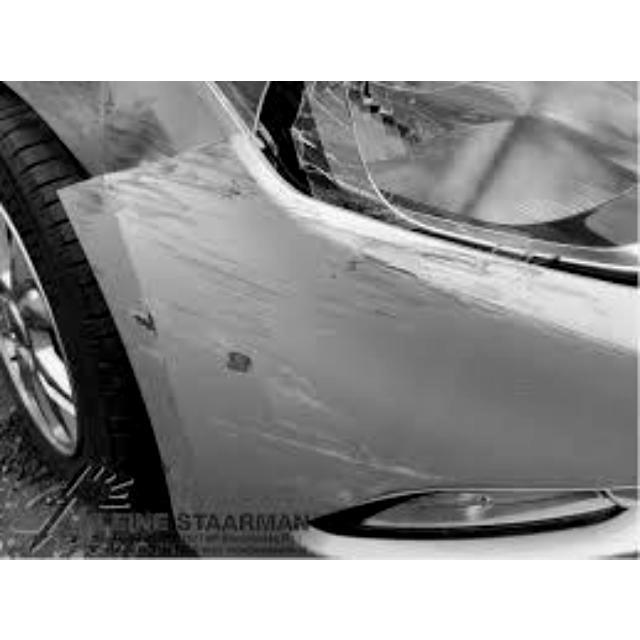Headlight-damage: (223, 80, 638, 294)
front-bumper-dent: (1, 128, 638, 557)
